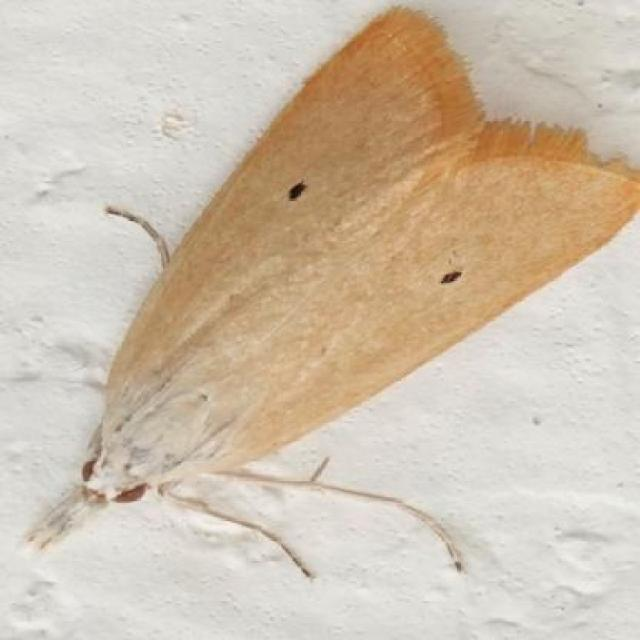stem-borer: (15, 4, 640, 585)
